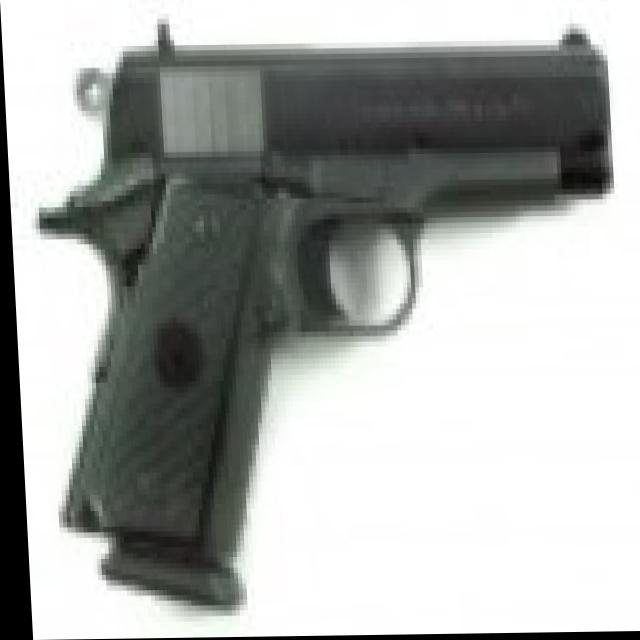handgun: (25, 14, 637, 613)
